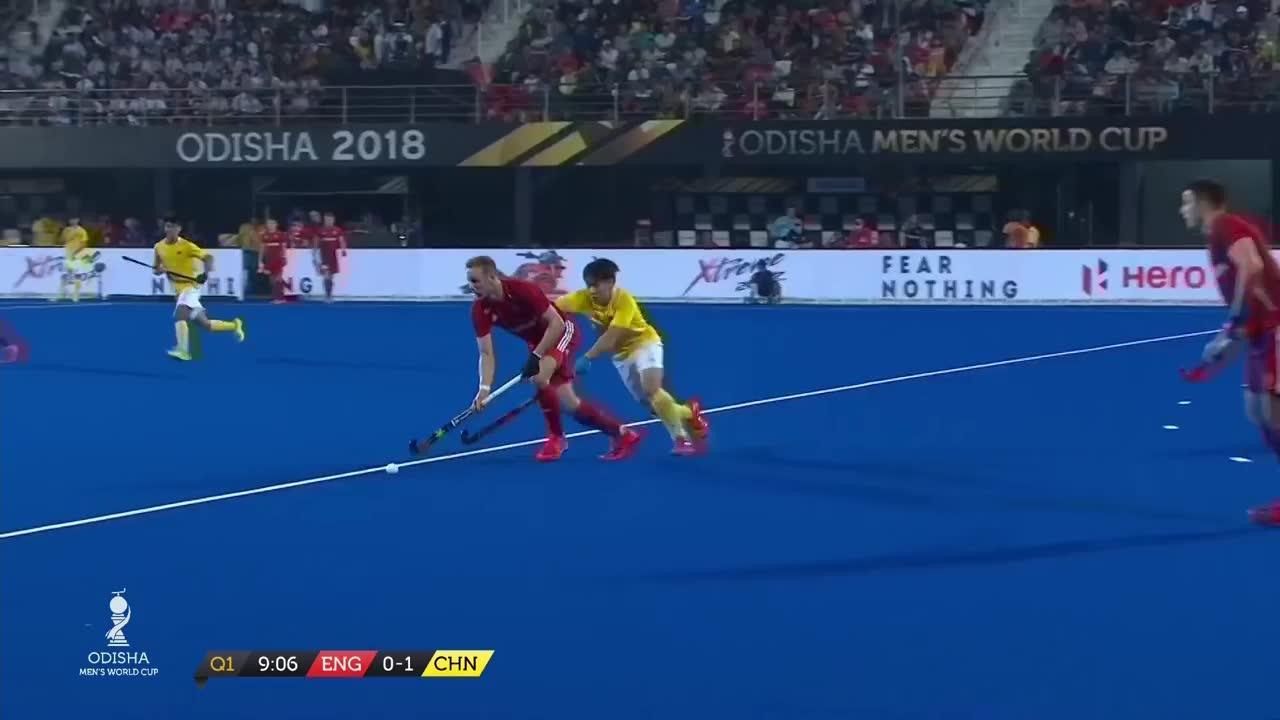ball: (382, 444, 411, 493)
